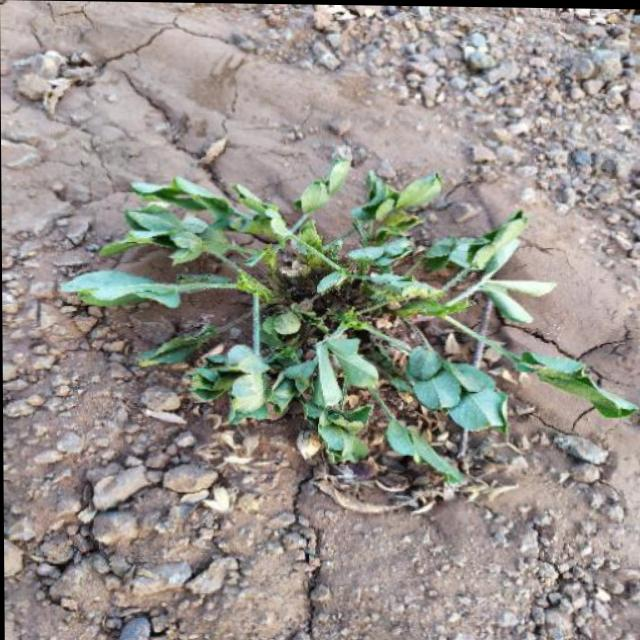weed: (80, 173, 593, 497)
